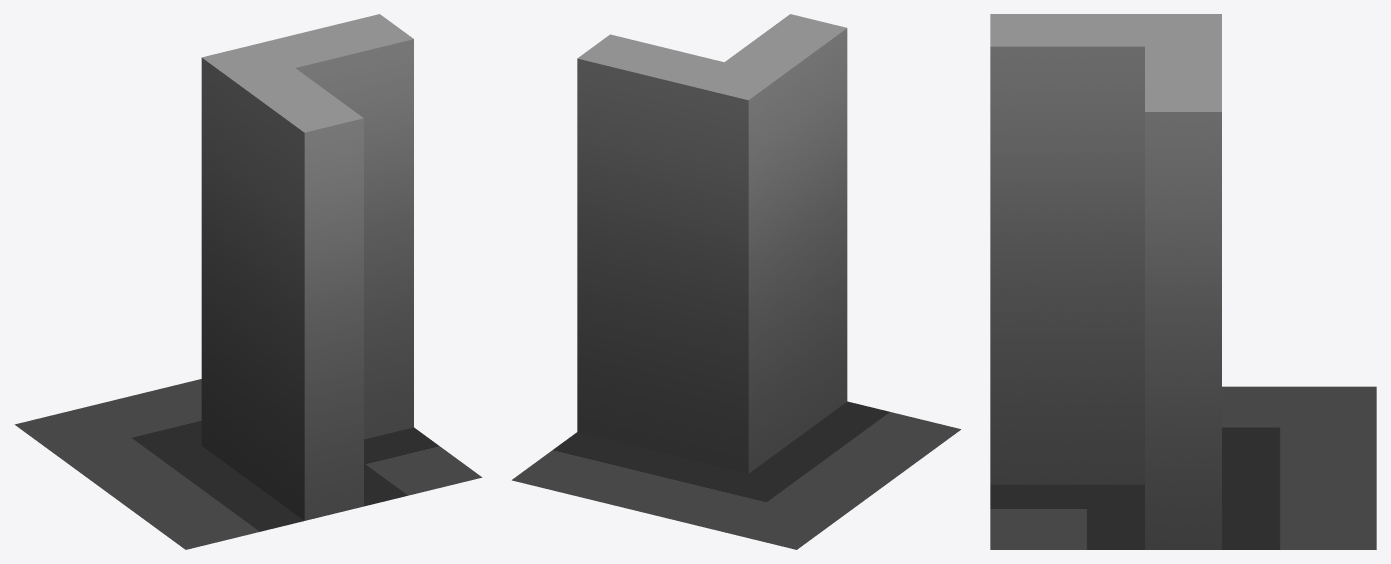
File: SM_MuurHoek.fbx
3 renders of one model, left to right at view 1: azimuth 30°, elevation 25°; view 2: azimuth 150°, elevation 25°; view 3: azimuth 270°, elevation 25°, orthographic. The views are drawn at different scales.
Parts seen in each view (by area): view 1: SM_muurHoek; view 2: SM_muurHoek; view 3: SM_muurHoek.
Boxes of the visible parts, x1,y1,x2,y2 form: SM_muurHoek: (14, 14, 482, 549); SM_muurHoek: (512, 14, 960, 549); SM_muurHoek: (990, 14, 1376, 549).
Bounding box in the file's own units: 200 × 250 × 200.
